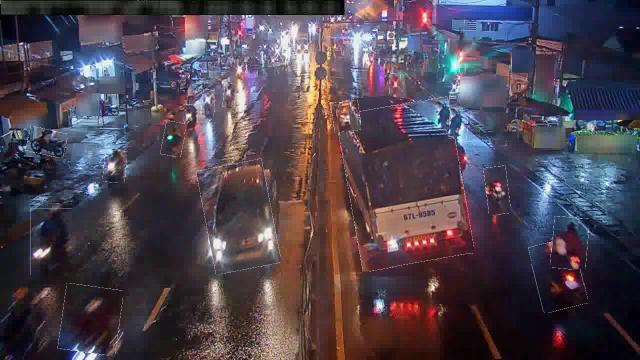Bike: (60, 286, 121, 354), (532, 240, 584, 312), (30, 209, 72, 276), (552, 217, 588, 269), (27, 127, 67, 156), (486, 166, 510, 214), (103, 150, 127, 182), (162, 122, 184, 156), (448, 108, 468, 140), (184, 105, 202, 139), (202, 90, 214, 116), (223, 83, 235, 107), (389, 74, 401, 94), (235, 60, 245, 80)
Car: (202, 162, 276, 272), (332, 100, 361, 132)
Truck: (342, 100, 468, 268)
